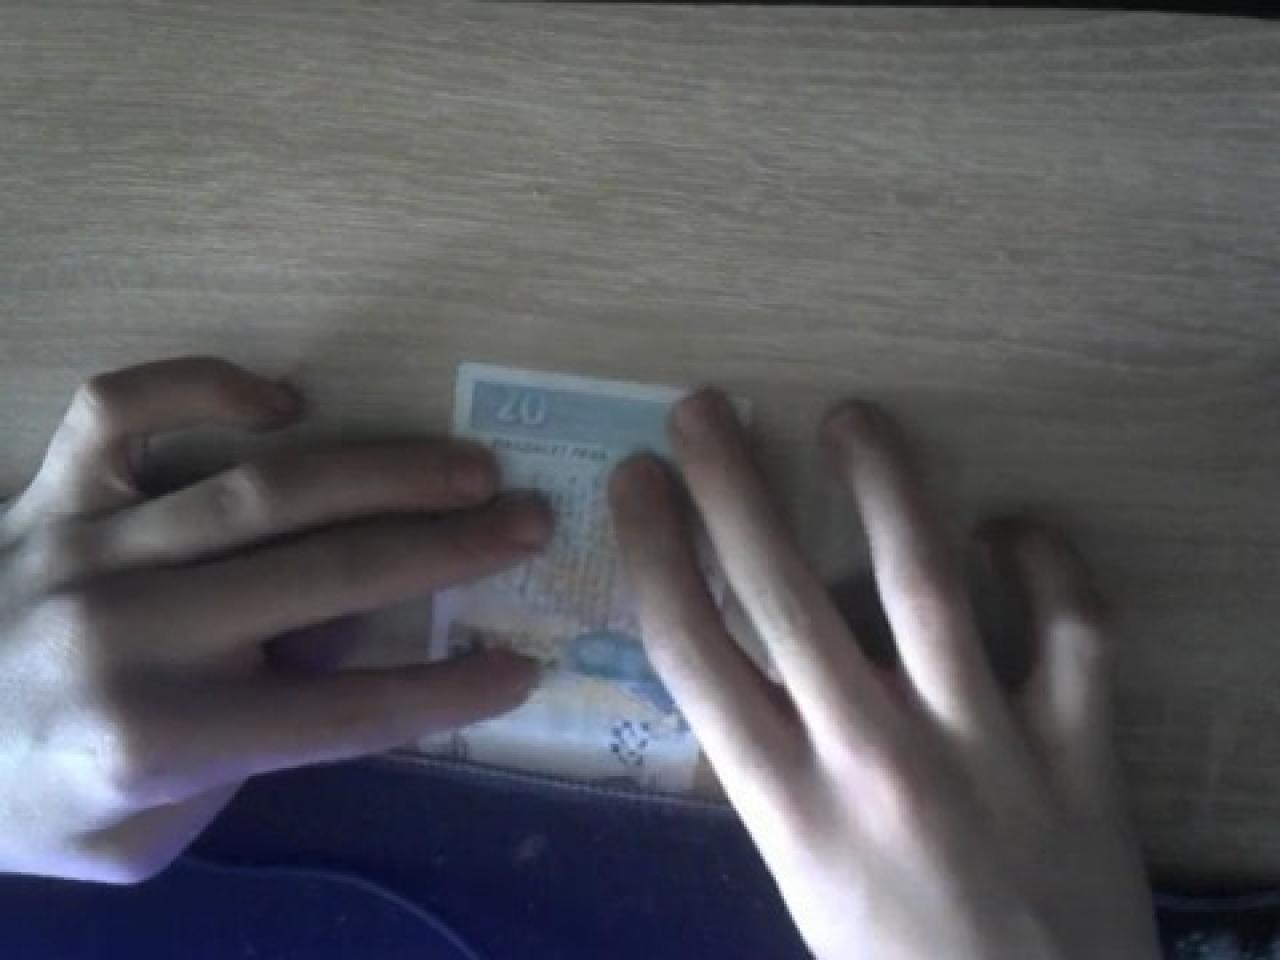20leva: (426, 424, 707, 792)
